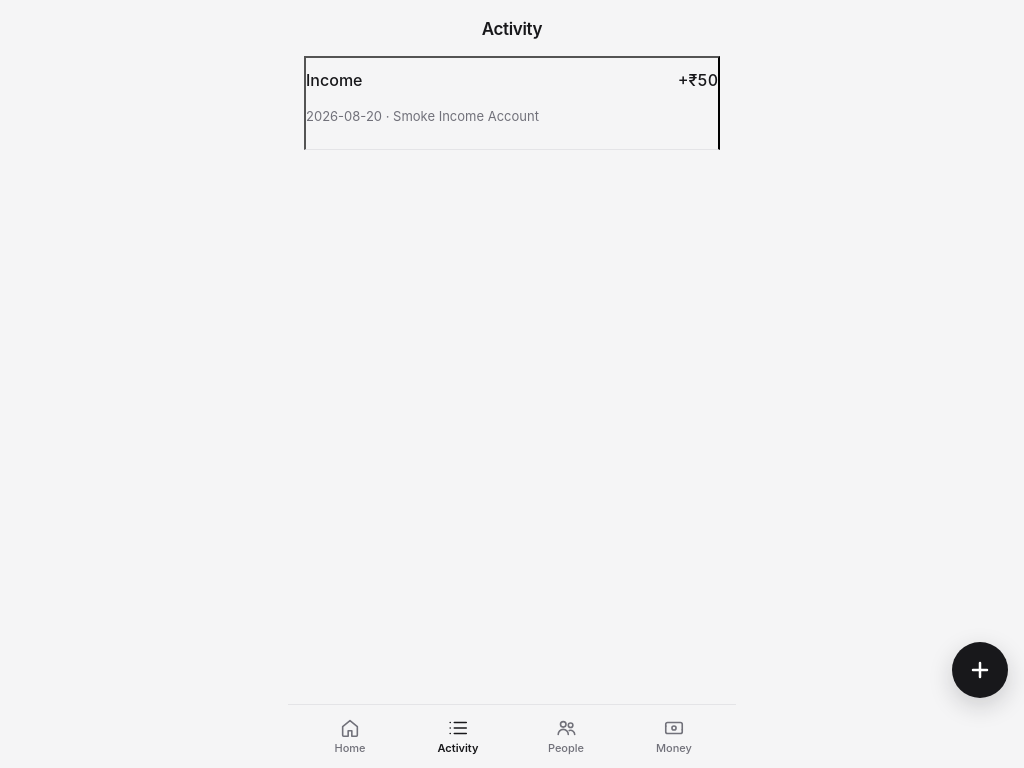
correction form family dispatch › does not treat canCorrect as an expense form when correctionFamily is absent
The width and height of the screenshot is (1024, 768).
What coordinates should you click on to do the following:
click the text "Income"
I would click on:
 (334, 80)
Its box is [306,69,362,92].
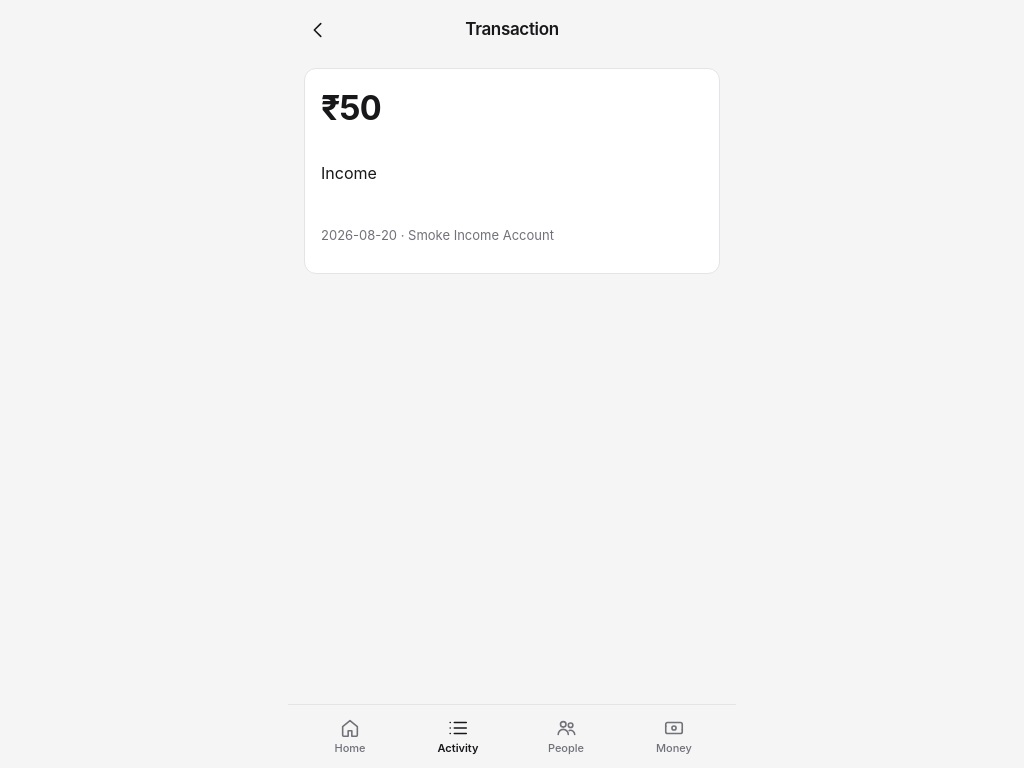
Now the heading "Transaction" is shown, box [465,19,559,39]
